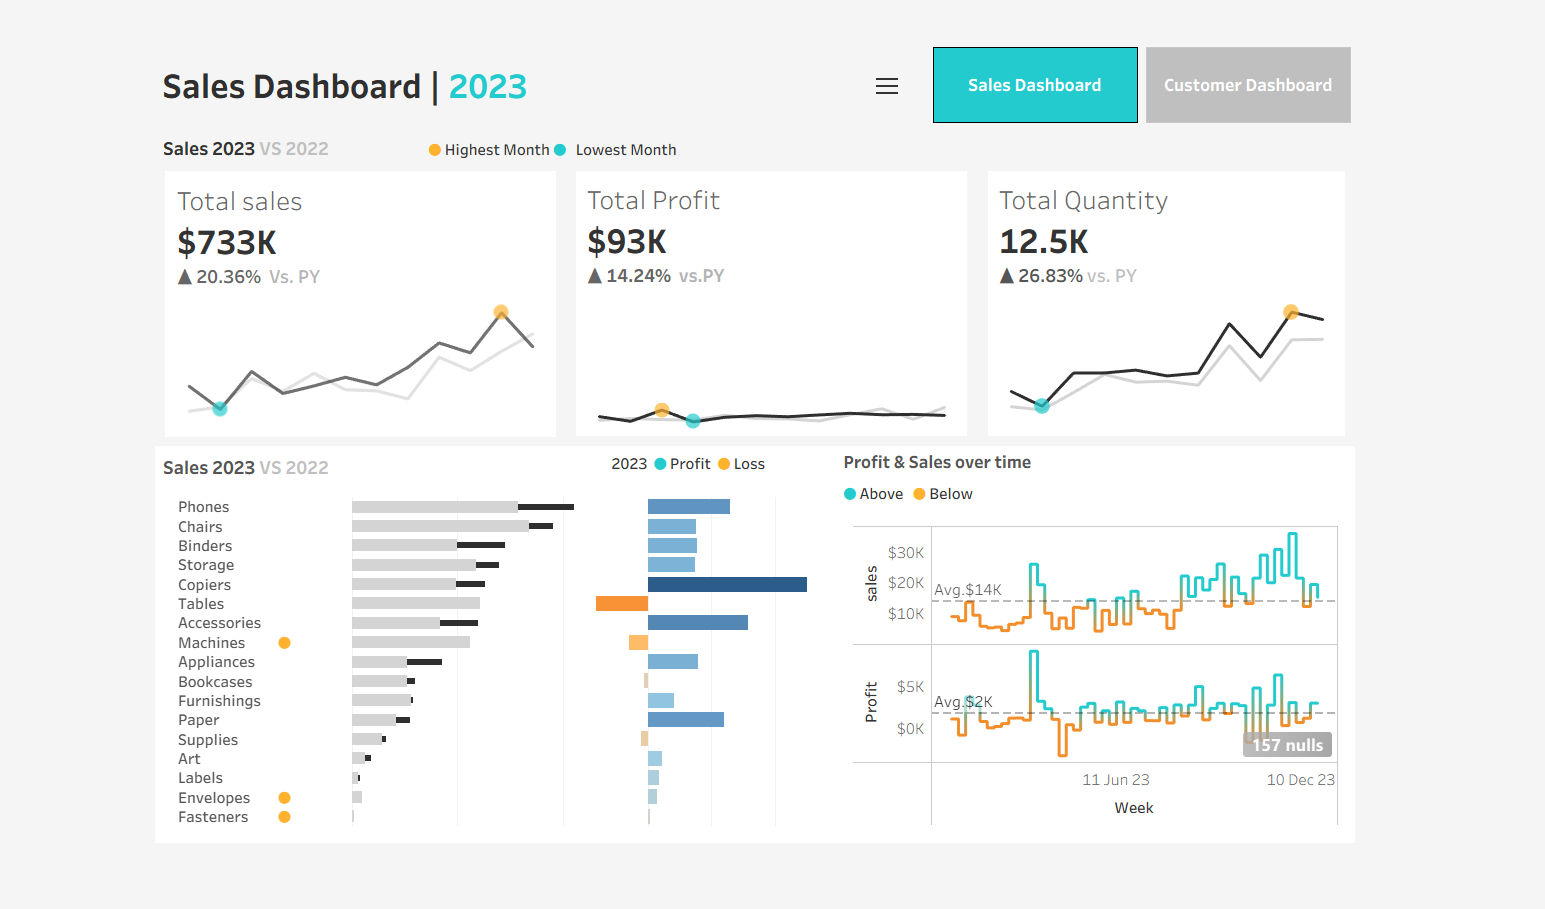

What the dashboard file says about the page in this screenshot:
{"tool":"tableau","page":{"name":"Sales dashboard","canvas":[1200,800],"ordinal":0},"visuals":[{"type":"text","box":[0,0,774,84]},{"type":"dashboard-object","box":[774,0,213,84]},{"type":"dashboard-object","box":[987,0,213,84]},{"type":"dashboard-object","box":[720,31,24,24]},{"type":"worksheet","title":"Sales 2023 (2)","mark":"Automatic","box":[0,84,263,44]},{"type":"text","box":[263,84,937,44]},{"type":"worksheet","title":"Sales","mark":"Automatic","rows":["Calculation_2139491360924614671"],"cols":["Order Date"],"box":[0,128,411.4,275]},{"type":"worksheet","title":"Profit","mark":"Automatic","rows":["Calculation_2231533679185211398"],"cols":["Order Date"],"box":[411.4,128,411.4,275]},{"type":"worksheet","title":"Quantity","mark":"Automatic","rows":["Calculation_398287155922956295"],"cols":["Order Date"],"box":[822.8,128,377.1,275]},{"type":"blank","box":[1021,221,158,32]},{"type":"text","box":[1021,253,158,45]},{"type":"parameter","param":"[Parameters].[Year Parameter]","box":[1021,298,158,81]},{"type":"text","box":[1021,379,158,29]},{"type":"worksheet","title":"Sales 2023","mark":"Automatic","box":[0,403,449,34]},{"type":"text","box":[449,403,232,34]},{"type":"text","box":[681,403,519,31]},{"type":"filter","title":"Sales","param":"[federated.0mmdyte08zs9901bcv7p00chscg3].[none:Category:nk]","box":[1021,408,158,50]},{"type":"text","box":[681,434,519,32]},{"type":"worksheet","title":"Sub category sales","mark":"Bar","rows":["Sub-Category","CY sales  (copy)_2139491361103122462"],"cols":["PY sales (copy)_2139491360733351939","Calculation_2139491360732983298","Calculation_2139491361100038172"],"box":[0,437,681,363]},{"type":"filter","title":"Sales","param":"[federated.0mmdyte08zs9901bcv7p00chscg3].[none:Sub-Category:nk]","box":[1021,458,158,85]},{"type":"worksheet","title":"Weekly trend","mark":"Automatic","rows":["PY sales (copy)_2139491360733351939","Calculation_2139491361100038172"],"cols":["Order Date"],"box":[681,466,519,334]},{"type":"text","box":[1021,543,158,29]},{"type":"filter","title":"Sales","param":"[federated.0mmdyte08zs9901bcv7p00chscg3].[none:Country/Region:nk]","box":[1021,572,158,50]},{"type":"filter","title":"Sales","param":"[federated.0mmdyte08zs9901bcv7p00chscg3].[none:Region:nk]","box":[1021,622,158,50]},{"type":"filter","title":"Sales","param":"[federated.0mmdyte08zs9901bcv7p00chscg3].[none:State:nk]","box":[1021,672,158,50]}]}

Visuals, with their boxes on the page's 1200x800 design canvas (x1, y1, x2, y2). These are canvas units, not pixel positions in the 1545x909 screenshot, which may show the page scaled, cropped or inside an application window:
text: {"left": 0, "top": 0, "right": 774, "bottom": 84}
dashboard-object: {"left": 774, "top": 0, "right": 987, "bottom": 84}
dashboard-object: {"left": 987, "top": 0, "right": 1200, "bottom": 84}
dashboard-object: {"left": 720, "top": 31, "right": 744, "bottom": 55}
"Sales 2023 (2)" worksheet: {"left": 0, "top": 84, "right": 263, "bottom": 128}
text: {"left": 263, "top": 84, "right": 1200, "bottom": 128}
"Sales" worksheet: {"left": 0, "top": 128, "right": 411, "bottom": 403}
"Profit" worksheet: {"left": 411, "top": 128, "right": 823, "bottom": 403}
"Quantity" worksheet: {"left": 823, "top": 128, "right": 1200, "bottom": 403}
blank: {"left": 1021, "top": 221, "right": 1179, "bottom": 253}
text: {"left": 1021, "top": 253, "right": 1179, "bottom": 298}
parameter: {"left": 1021, "top": 298, "right": 1179, "bottom": 379}
text: {"left": 1021, "top": 379, "right": 1179, "bottom": 408}
"Sales 2023" worksheet: {"left": 0, "top": 403, "right": 449, "bottom": 437}
text: {"left": 449, "top": 403, "right": 681, "bottom": 437}
text: {"left": 681, "top": 403, "right": 1200, "bottom": 434}
"Sales" filter: {"left": 1021, "top": 408, "right": 1179, "bottom": 458}
text: {"left": 681, "top": 434, "right": 1200, "bottom": 466}
"Sub category sales" worksheet (Bar marks): {"left": 0, "top": 437, "right": 681, "bottom": 800}
"Sales" filter: {"left": 1021, "top": 458, "right": 1179, "bottom": 543}
"Weekly trend" worksheet: {"left": 681, "top": 466, "right": 1200, "bottom": 800}
text: {"left": 1021, "top": 543, "right": 1179, "bottom": 572}
"Sales" filter: {"left": 1021, "top": 572, "right": 1179, "bottom": 622}
"Sales" filter: {"left": 1021, "top": 622, "right": 1179, "bottom": 672}
"Sales" filter: {"left": 1021, "top": 672, "right": 1179, "bottom": 722}
